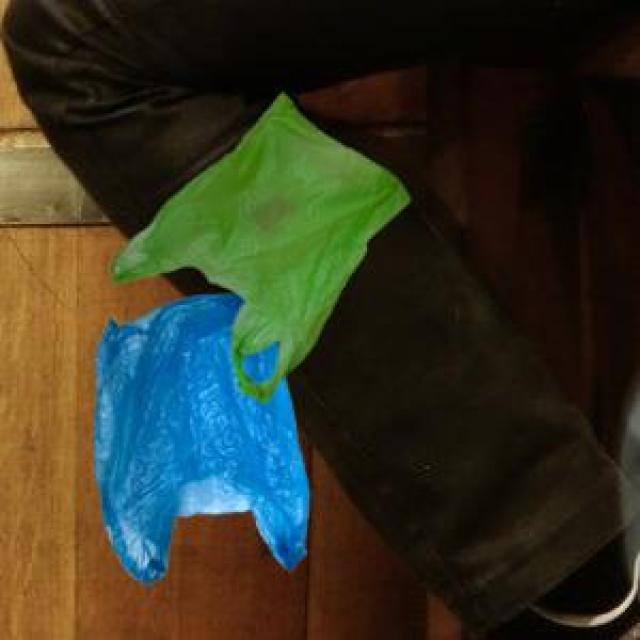plastic: (63, 83, 463, 591)
